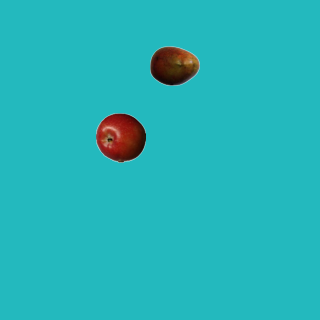Apple Braeburn: (95, 112, 145, 162)
Mango Red: (149, 40, 199, 90)
